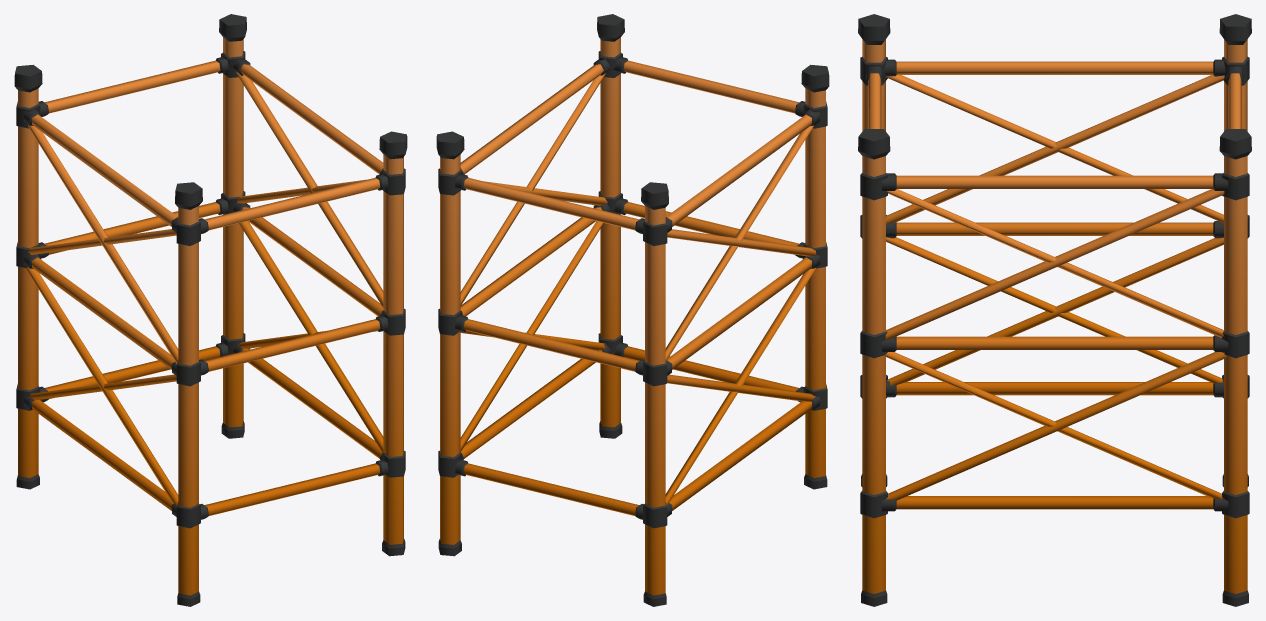
The model's file is Scaffolding_B_2.glb.
3 views of the same model, side by side, from view 1: azimuth 30°, elevation 25°; view 2: azimuth 150°, elevation 25°; view 3: azimuth 270°, elevation 25° (orthographic). The views are drawn at different scales.
Parts seen in each view (by area): view 1: Scaffolding_B_2; view 2: Scaffolding_B_2; view 3: Scaffolding_B_2.
Part boxes in pixels (bbox=[...]): Scaffolding_B_2: bbox=[14, 14, 407, 606]; Scaffolding_B_2: bbox=[436, 14, 829, 606]; Scaffolding_B_2: bbox=[858, 14, 1251, 606].
Size of the model in its own units: 1.67 by 2.85 by 2.18.
Materials: 2 (2 with a texture image).
